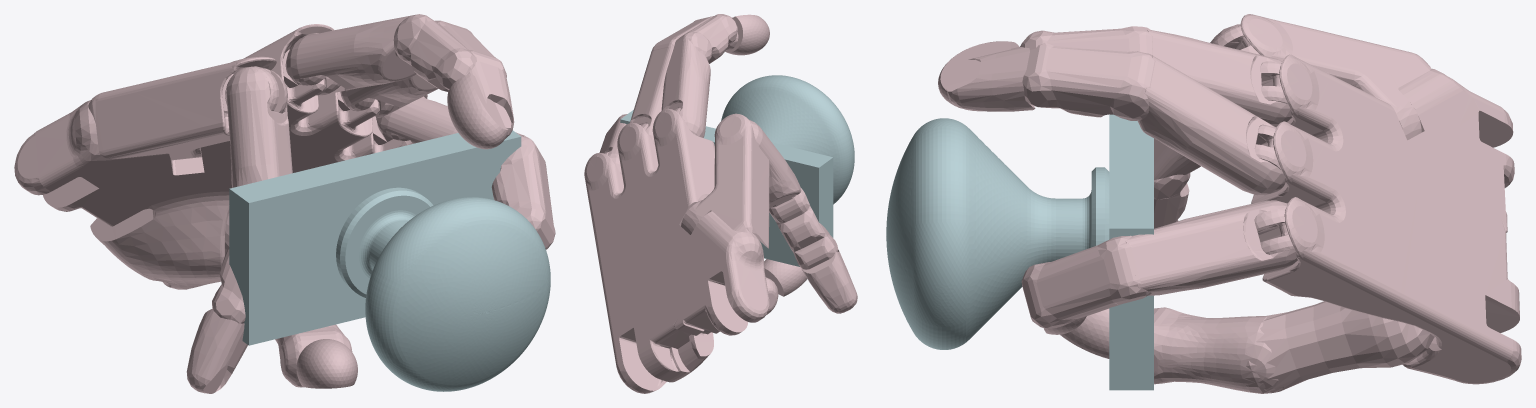
Rendered from grasp_8.glb.
3 renders of one model, left to right at view 1: azimuth 30°, elevation 25°; view 2: azimuth 150°, elevation 25°; view 3: azimuth 270°, elevation 25°, orthographic. The views are drawn at different scales.
Visible parts, largest first — view 1: world; view 2: world; view 3: world.
Boxes of the visible parts, x1,y1,x2,y2 form: world: (14, 14, 555, 393); world: (584, 14, 857, 393); world: (886, 14, 1521, 393).
Bounding box in the file's own units: 0.1358 × 0.1258 × 0.178.
